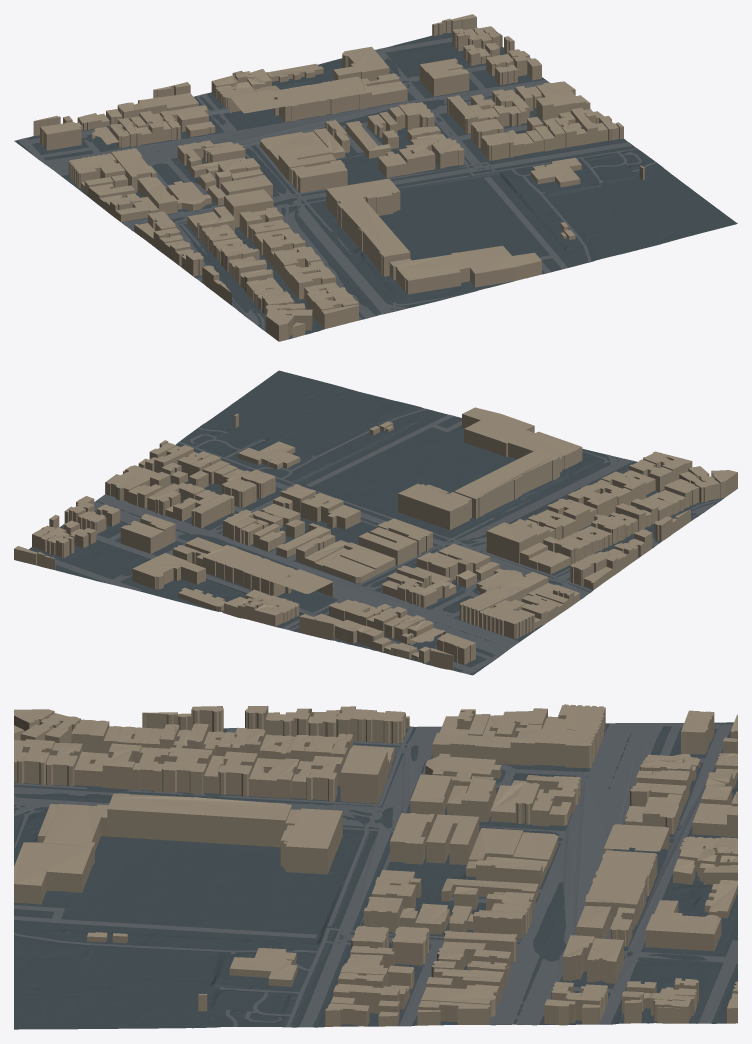
Rendered from epsg26910-1431-10895.lod0.glb.
3 renders of one model, top to bottom at view 1: azimuth 30°, elevation 25°; view 2: azimuth 150°, elevation 25°; view 3: azimuth 270°, elevation 25°, orthographic. The views are drawn at different scales.
Visible parts, largest first — view 1: epsg26910-1431-10895-lod0; view 2: epsg26910-1431-10895-lod0; view 3: epsg26910-1431-10895-lod0.
Part boxes in pixels (x1,y1,x2,y2): epsg26910-1431-10895-lod0: (14, 14, 737, 341); epsg26910-1431-10895-lod0: (14, 370, 737, 675); epsg26910-1431-10895-lod0: (14, 704, 737, 1029).
Size of the model in its own units: 384 by 21.52 by 384.
